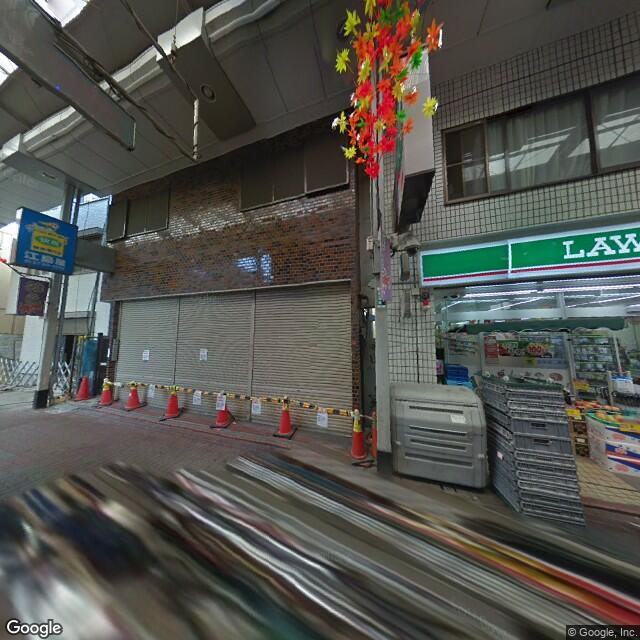lawson: (425, 221, 640, 285)
